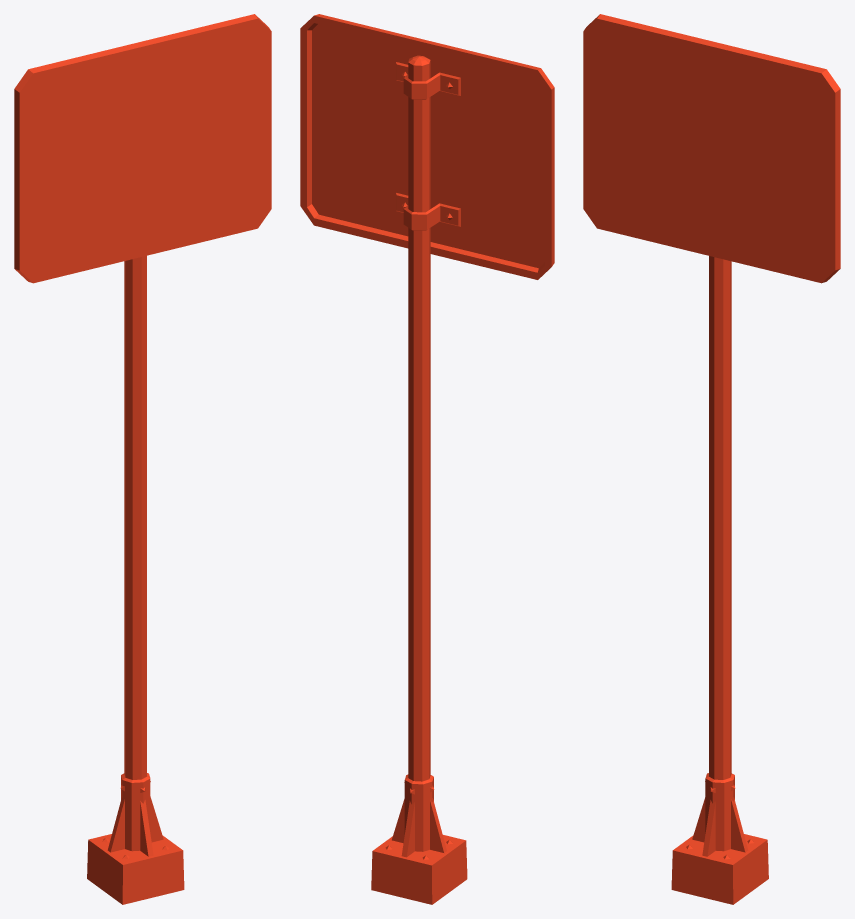
The model's file is SM_Sign_Double_Horizontal_B_City.fbx.
3 renders of one model, left to right at view 1: azimuth 30°, elevation 25°; view 2: azimuth 150°, elevation 25°; view 3: azimuth 330°, elevation 25°, orthographic.
Parts seen in each view (by area): view 1: SM_Sign_Double_Horizontal_B_City; view 2: SM_Sign_Double_Horizontal_B_City; view 3: SM_Sign_Double_Horizontal_B_City.
Boxes of the visible parts, <box> form: SM_Sign_Double_Horizontal_B_City: <box>14,14,271,904</box>; SM_Sign_Double_Horizontal_B_City: <box>300,14,554,904</box>; SM_Sign_Double_Horizontal_B_City: <box>583,14,840,904</box>.
Size of the model in its own units: 0.7567 by 2.41 by 0.1839.
